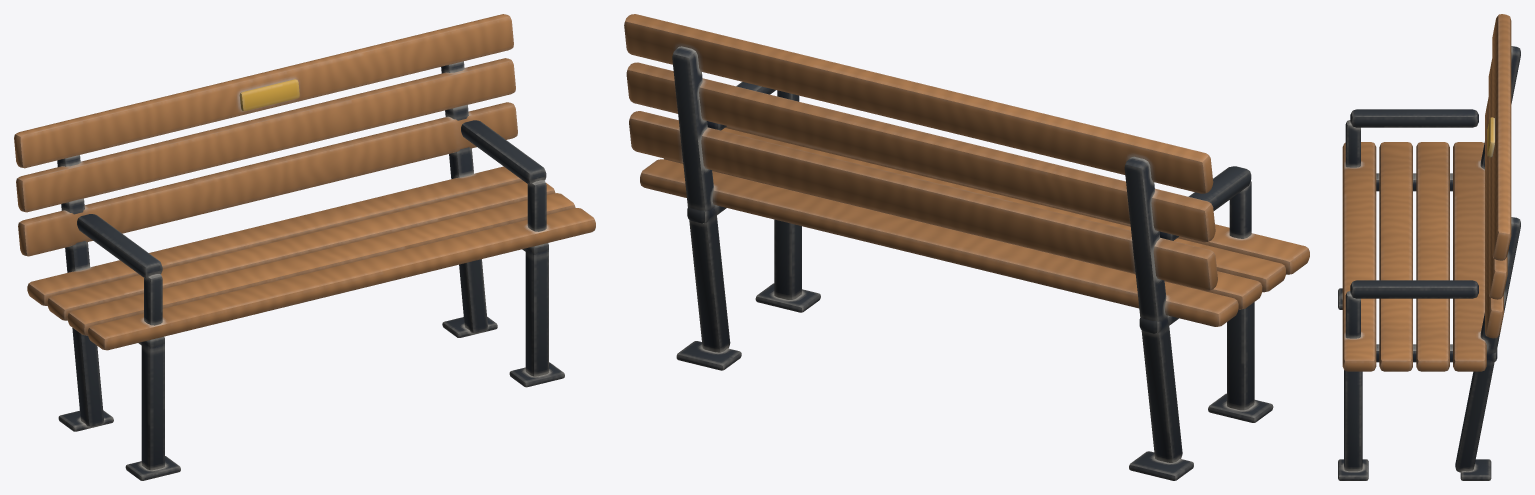
File: bench.glb
3 views of the same model, side by side, from view 1: azimuth 30°, elevation 25°; view 2: azimuth 150°, elevation 25°; view 3: azimuth 270°, elevation 25° (orthographic). The views are drawn at different scales.
Parts seen in each view (by area): view 1: SM_Bench; view 2: SM_Bench; view 3: SM_Bench.
Boxes of the visible parts, x1,y1,x2,y2 form: SM_Bench: (14, 14, 595, 480); SM_Bench: (624, 14, 1309, 480); SM_Bench: (1338, 14, 1520, 480).
Size of what is drawn, in the model's own units: 1.7 by 0.9554 by 0.5968.
1 material, 1 textured.
